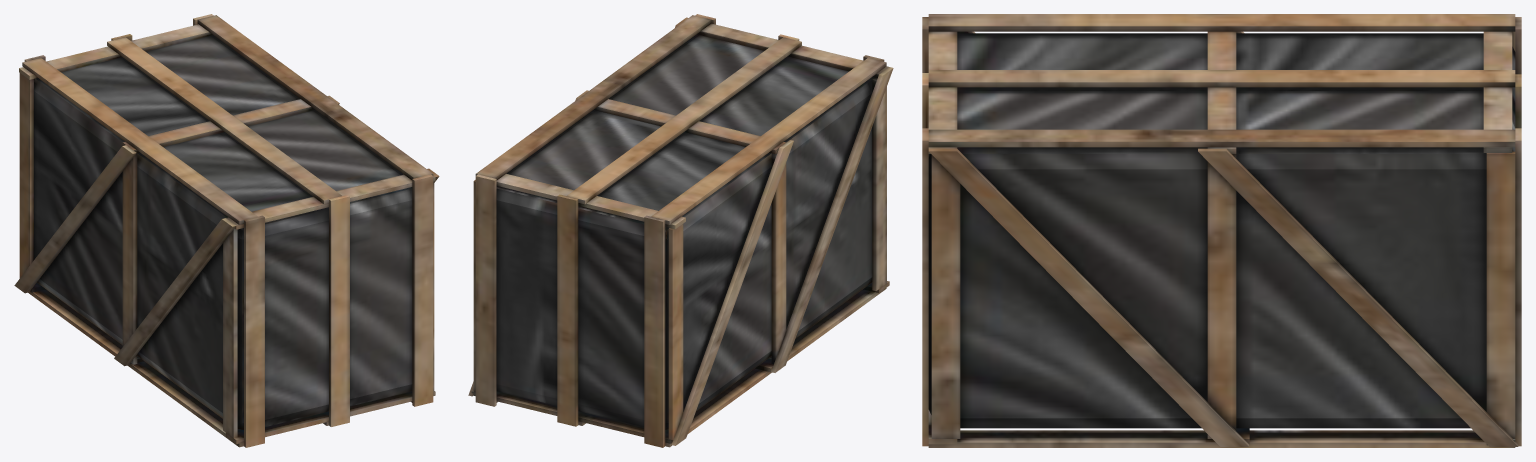
Rendered from Container_2.fbx.
The picture shows the model from 3 angles, left to right: view 1: azimuth 30°, elevation 25°; view 2: azimuth 150°, elevation 25°; view 3: azimuth 270°, elevation 25°; orthographic projection. The views are drawn at different scales.
Parts seen in each view (by area): view 1: Box_1011_02_mat_Goods_1011_0; view 2: Box_1011_02_mat_Goods_1011_0; view 3: Box_1011_02_mat_Goods_1011_0.
Part boxes in pixels (box(x1,y1,x2,y2)): Box_1011_02_mat_Goods_1011_0: box(14, 14, 439, 447); Box_1011_02_mat_Goods_1011_0: box(468, 14, 893, 447); Box_1011_02_mat_Goods_1011_0: box(922, 14, 1521, 447).
Bounding box in the file's own units: 176 × 184 × 327.
